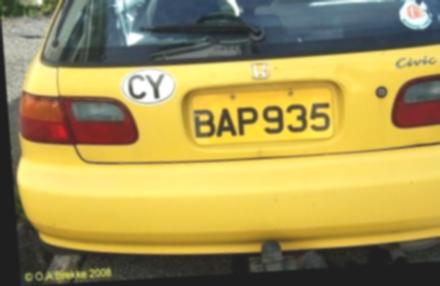License_Plate: (188, 84, 339, 150)
